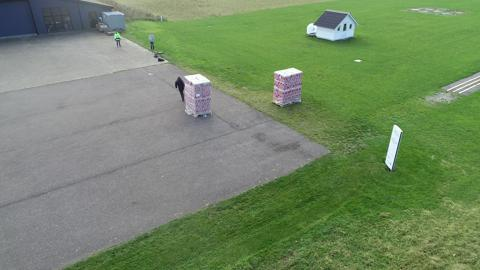RockwoolPallet: (182, 75, 214, 117)
